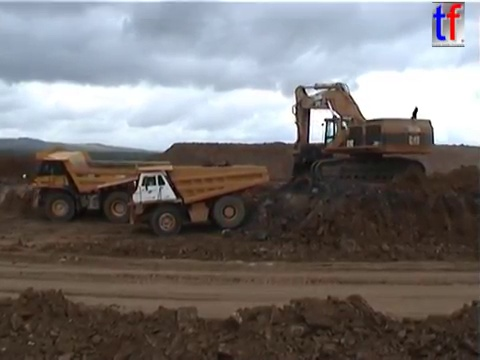excavator: (288, 79, 437, 191)
truck: (21, 146, 172, 224), (126, 159, 270, 237)
